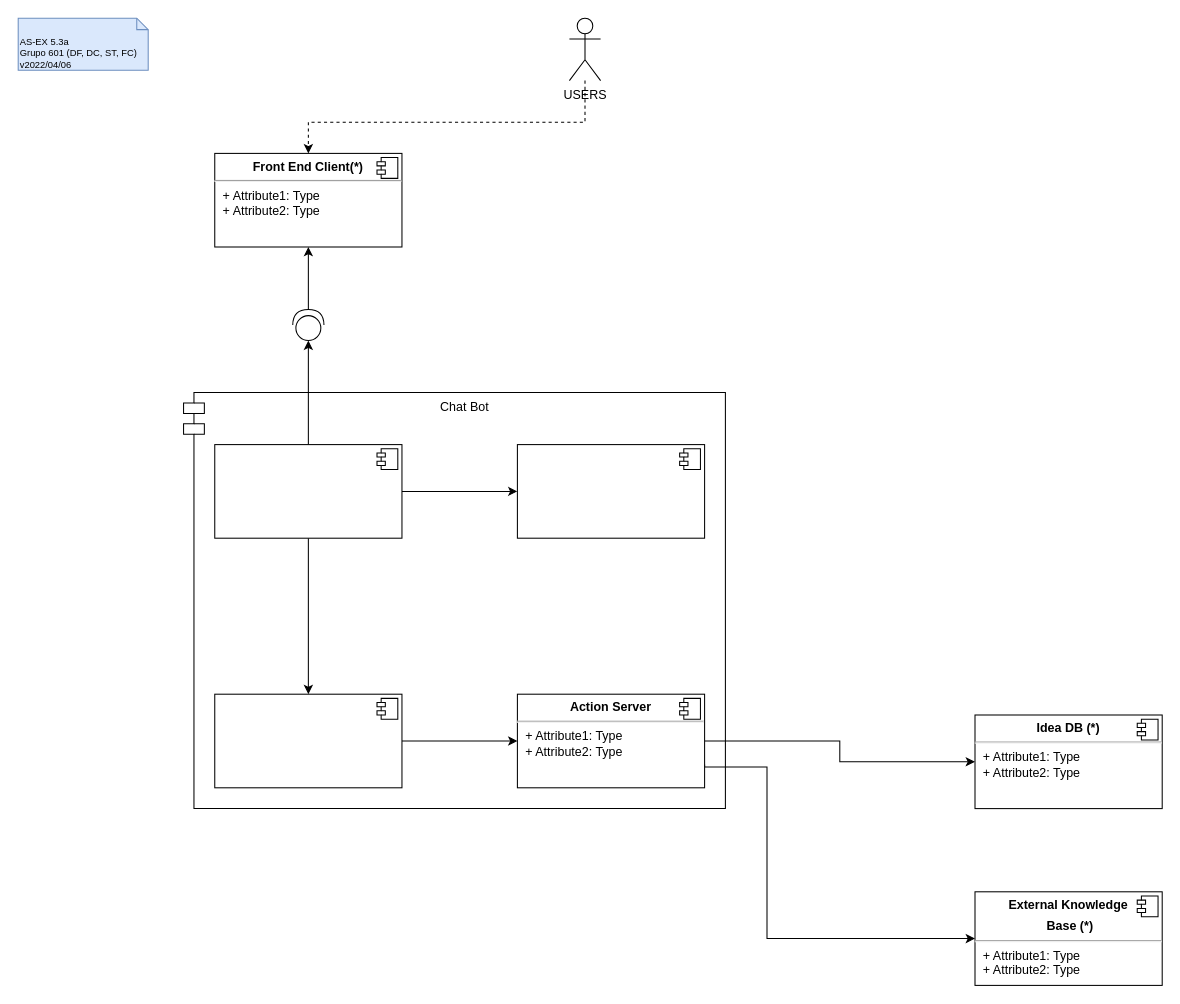
The diagram is 1180 pixels wide and 1004 high, and some of its shapes have lost their labels. Each missing label, with the centre of its shape:
"Conversation Manager + Attribute1: Type + Attribute2: Type" belongs at (308,491).
"Dialog Engine + Attribute1: Type + Attribute2: Type" belongs at (308,740).
"NLU Module + Attribute1: Type + Attribute2: Type" belongs at (610,491).
